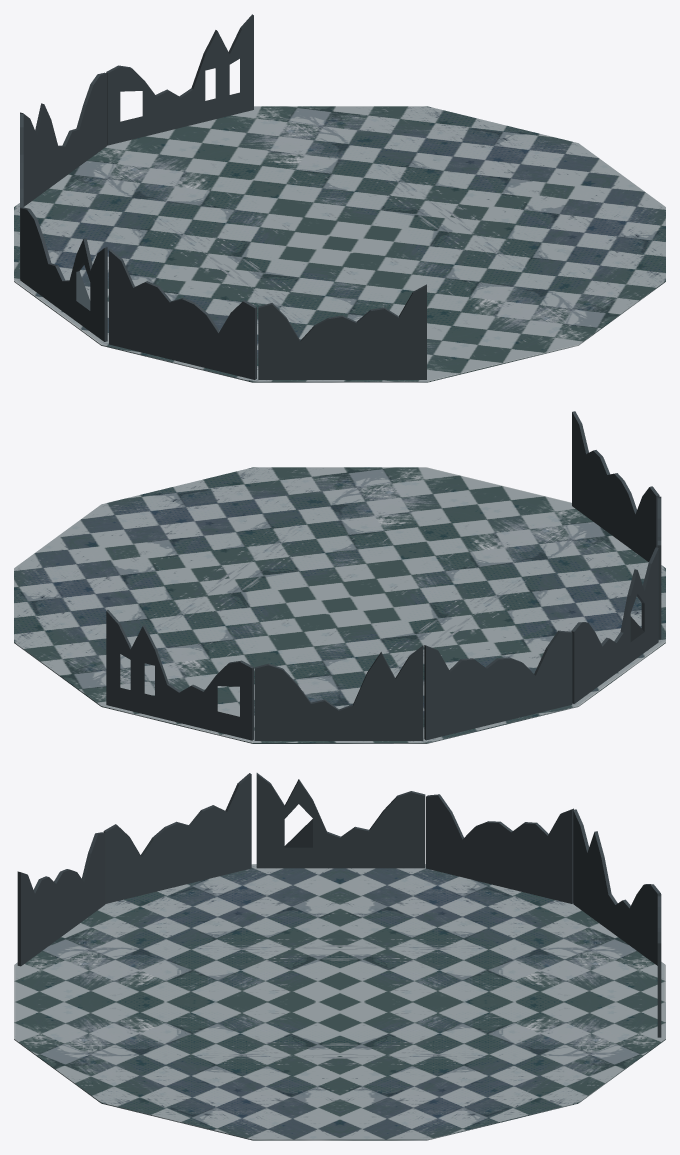
The model's file is floor01.fbx.
3 renders of one model, top to bottom at view 1: azimuth 30°, elevation 25°; view 2: azimuth 150°, elevation 25°; view 3: azimuth 270°, elevation 25°, orthographic.
Parts seen in each view (by area): view 1: floor1, Cube.002; view 2: floor1, Cube.002; view 3: floor1, Cube.002.
Part boxes in pixels (bbox=[...]): floor1: bbox=[14, 106, 665, 382]; Cube.002: bbox=[20, 14, 426, 379]; floor1: bbox=[14, 467, 665, 743]; Cube.002: bbox=[106, 411, 661, 740]; floor1: bbox=[14, 864, 665, 1140]; Cube.002: bbox=[17, 773, 661, 1037].
Size of the model in its own units: 7727 by 7727 by 1245.
2 materials, 1 textured.
